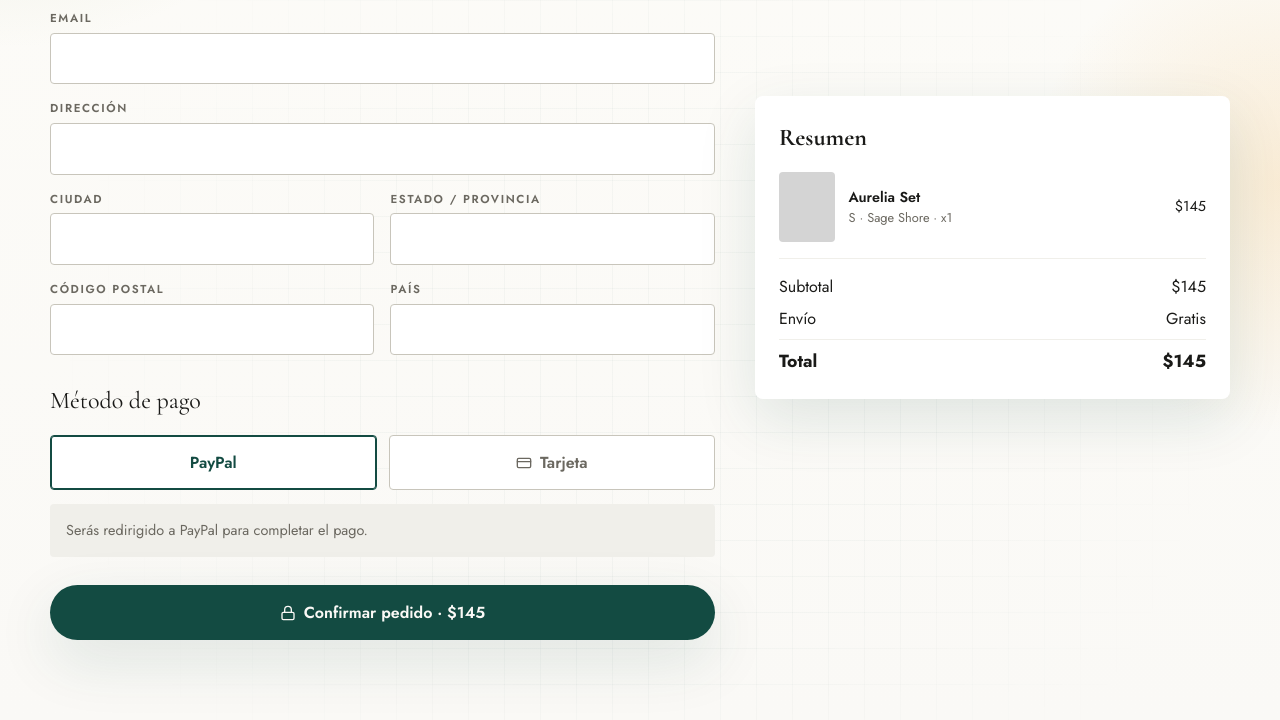
Scenario: CheckoutPage › Card section renders when card selected
The width and height of the screenshot is (1280, 720).
(page scrolled)
Click the button "Tarjeta" at (552, 463), box [388,436,715,490]
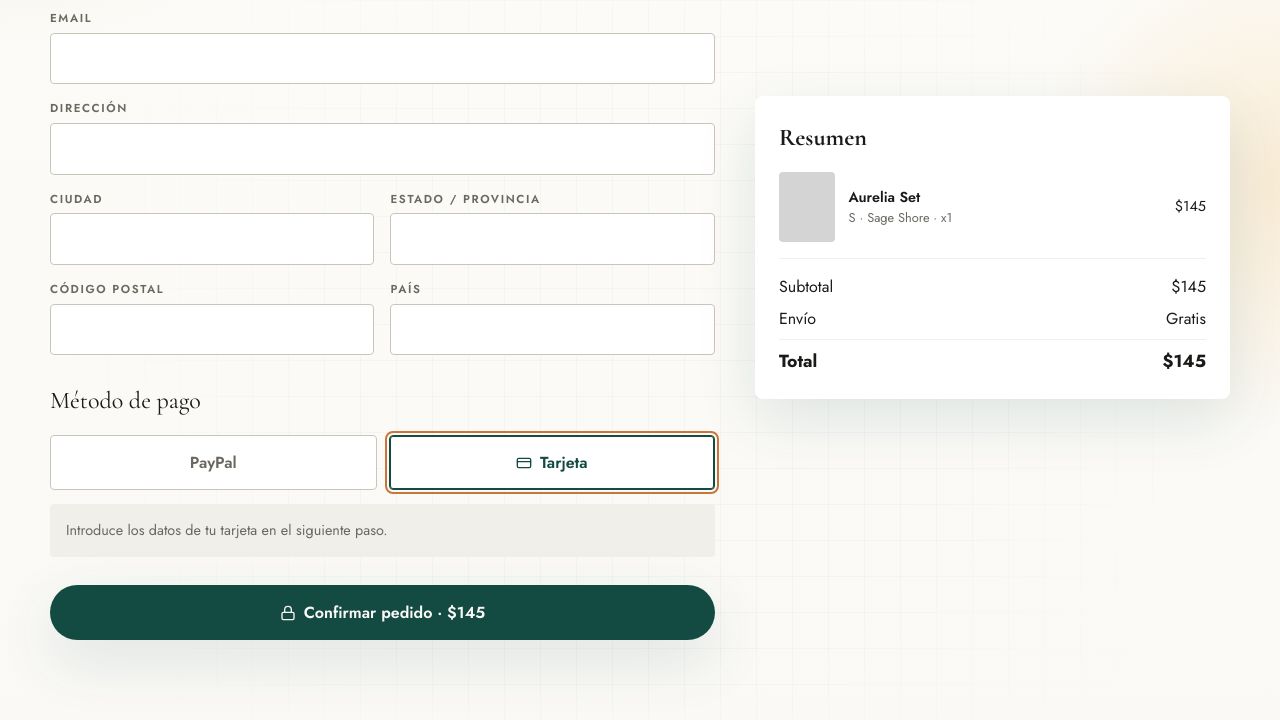
Result: the element named "pago con tarjeta" is shown at [50,504,715,557]
